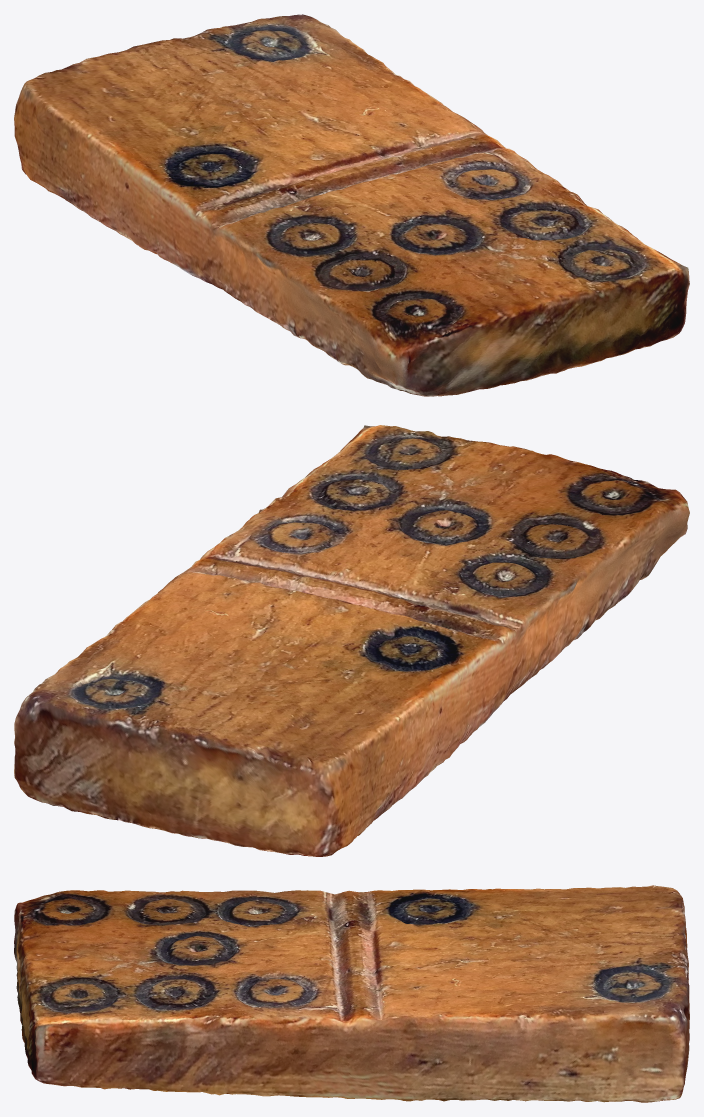
File: Domino.glb
3 views of the same model, one above another, from view 1: azimuth 30°, elevation 25°; view 2: azimuth 150°, elevation 25°; view 3: azimuth 270°, elevation 25° (orthographic). The views are drawn at different scales.
Parts seen in each view (by area): view 1: Object_4; view 2: Object_4; view 3: Object_4.
Part boxes in pixels (left/top/right/bottom): Object_4: left=14, top=14, right=689, bottom=396; Object_4: left=14, top=425, right=689, bottom=856; Object_4: left=14, top=885, right=689, bottom=1102.
Bounding box in the file's own units: 0.2124 × 0.068 × 0.4233.
1 material, 1 textured.
